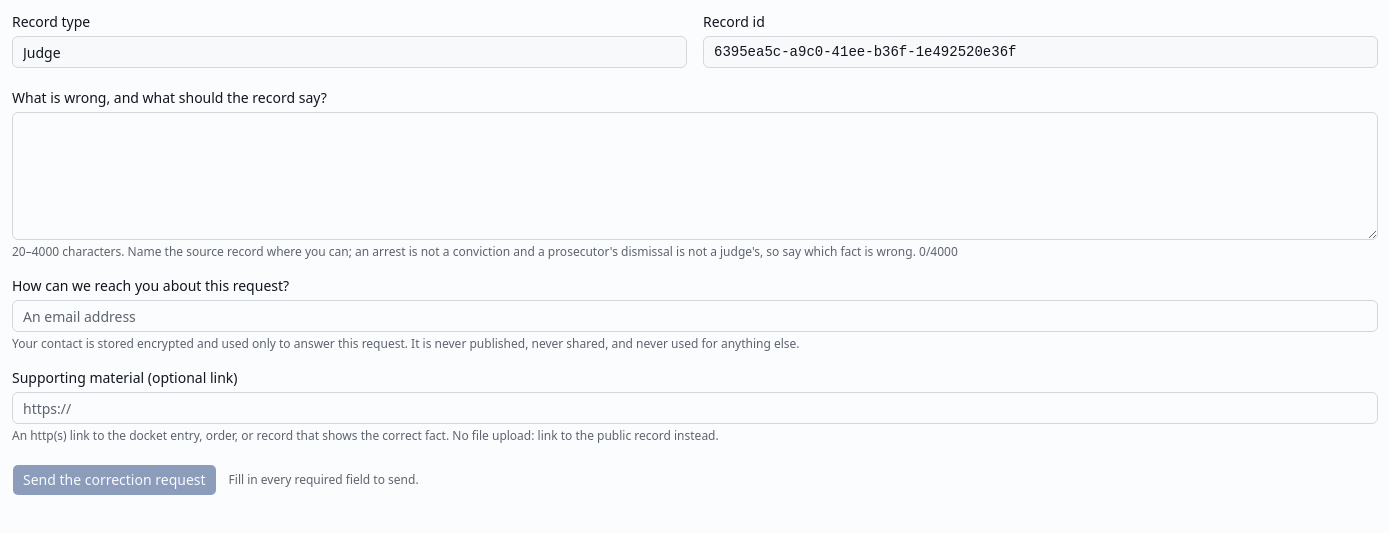
it: CorrectionForm › enables submit only once the reason and contact validate, and shows the reason limit
Type "too short" into the text box with test id "reason" at (695, 176), box [12,112,1378,240]
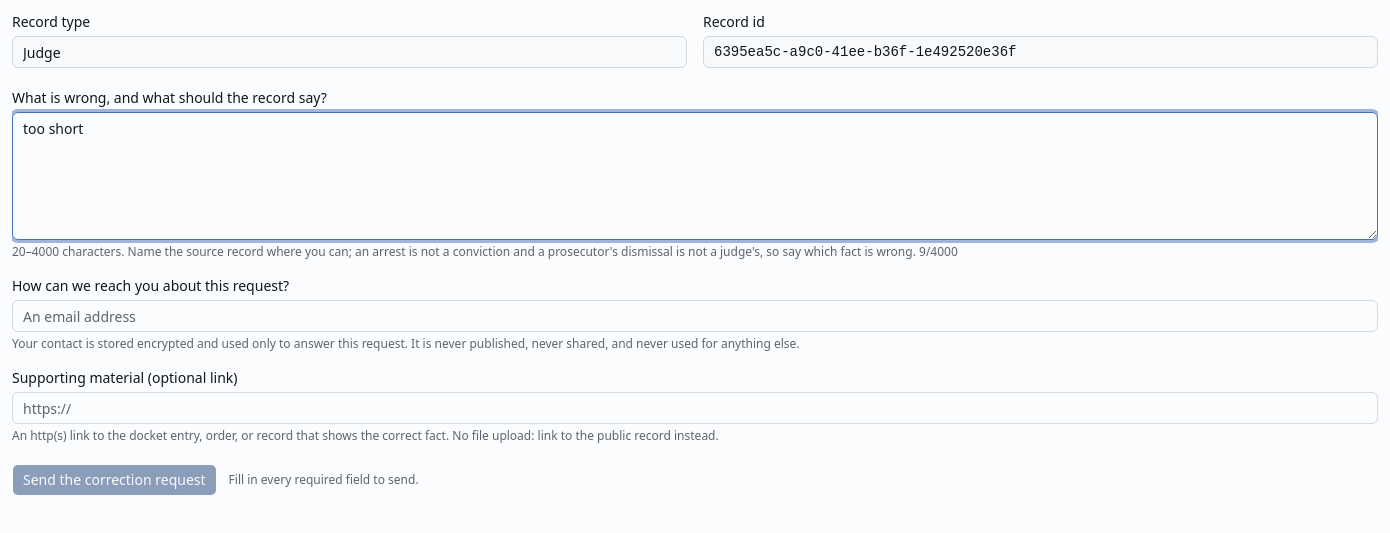
Type "requester@example.invalid" into the field with test id "contact" at (695, 316), box [12,300,1378,332]
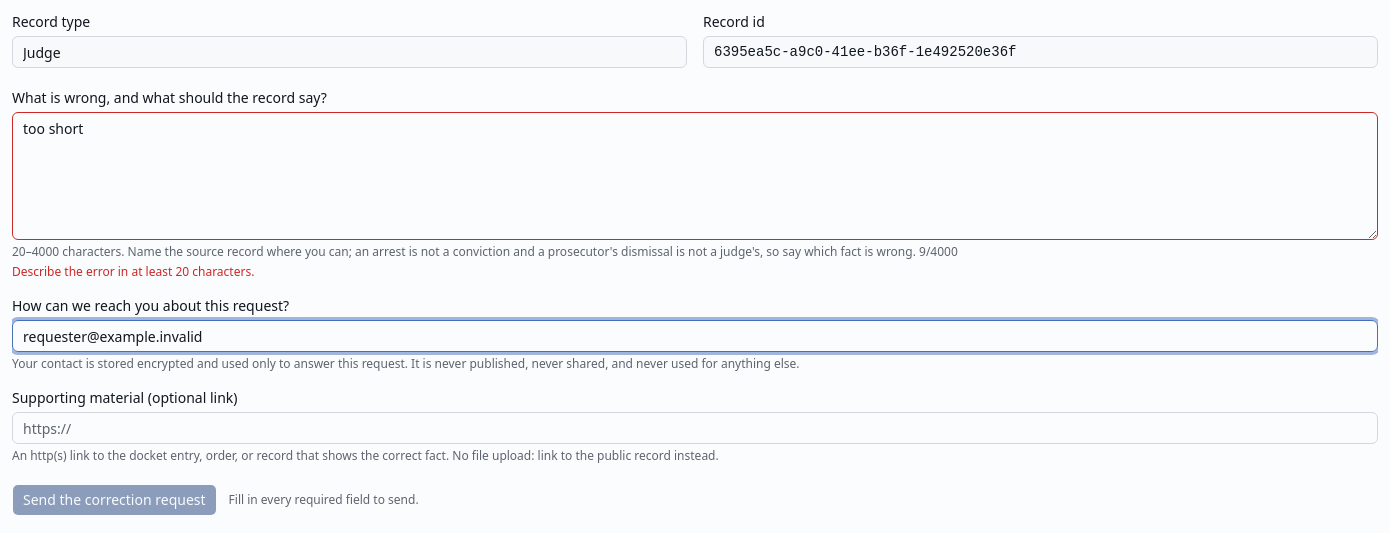
Press Tab
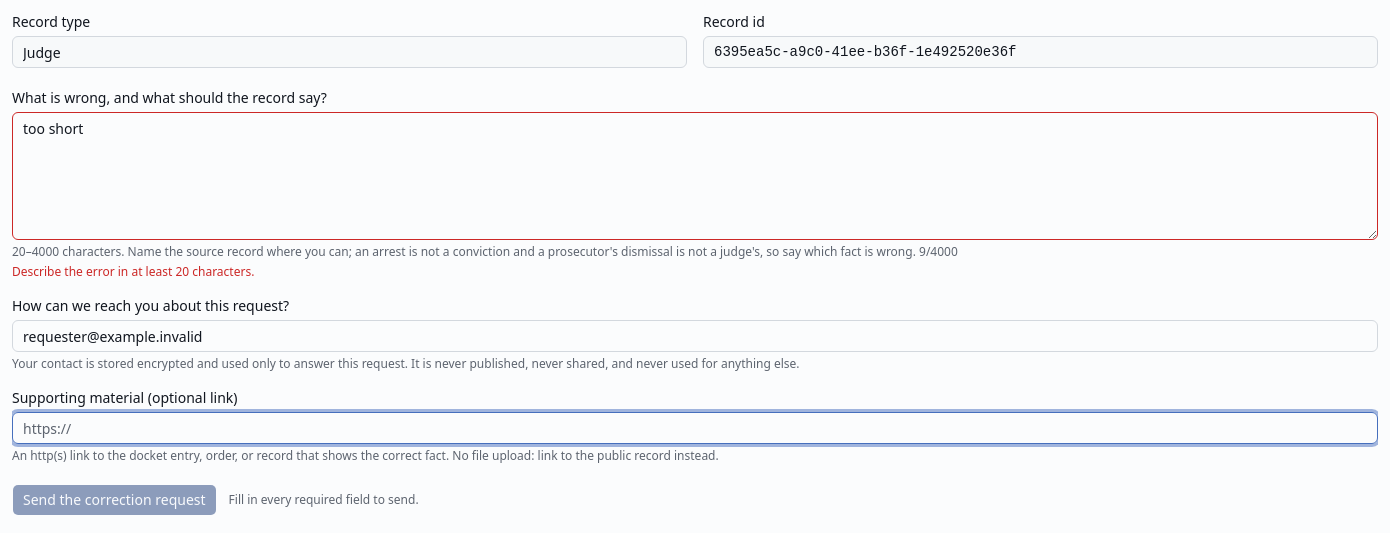
Expected: the button with test id "submit-correction" is disabled, [12,484,217,516]
Expected: the text with test id "reason-count" reads "9/4000", [919,243,958,260]
Expected: the message with test id "field-error" shows "at least 20 characters", [12,263,254,280]
Replace the text in the text box with test id "reason" with "The commission date shown is 2009-08-06 but the source record says 2009-08-08." at (695, 176), box [12,112,1378,240]
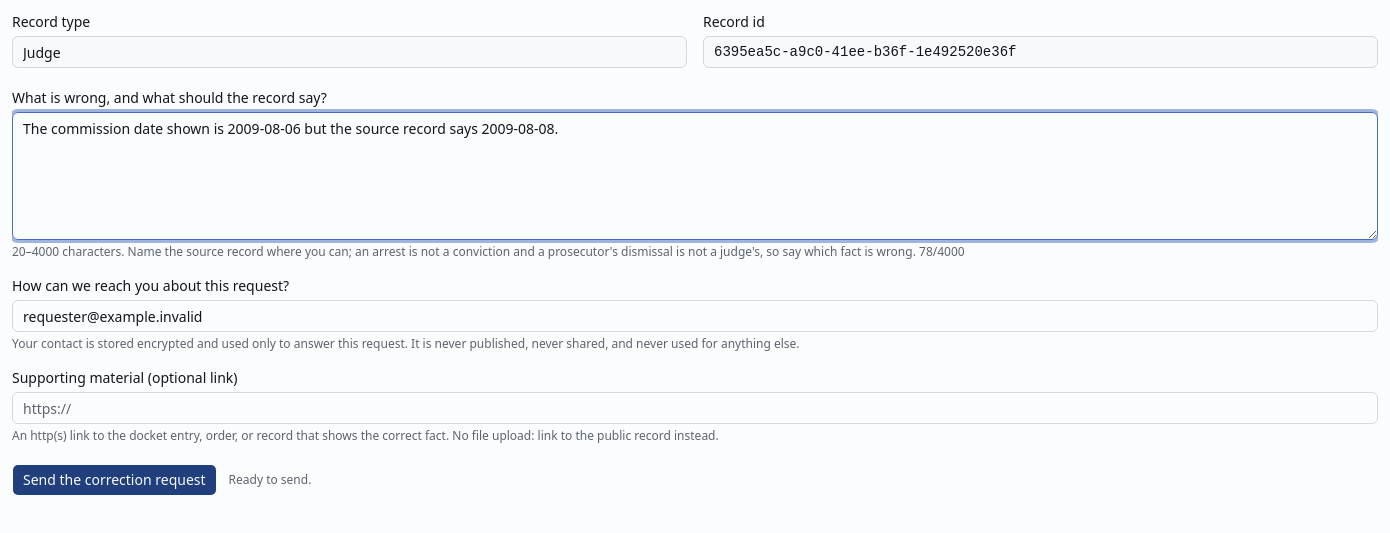
Expected: the button with test id "submit-correction" is enabled, [12,464,217,496]
Expected: the text with test id "submit-status" reads "Ready to send.", [229,471,311,488]
